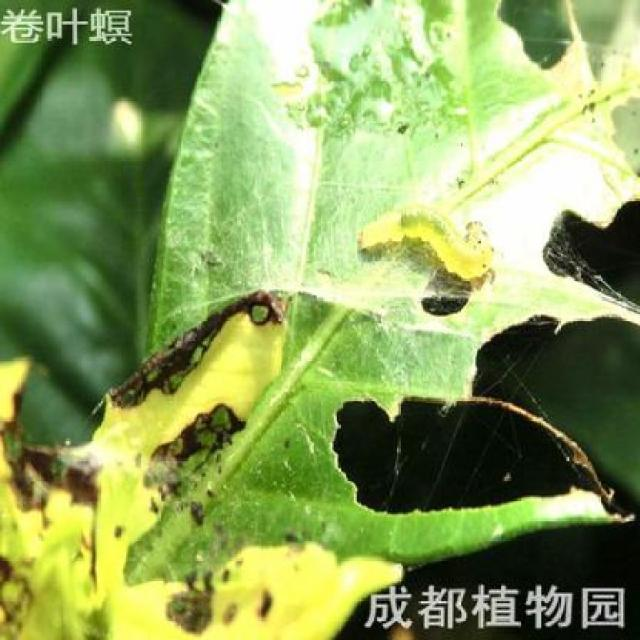leaf-folder: (376, 174, 506, 312)
